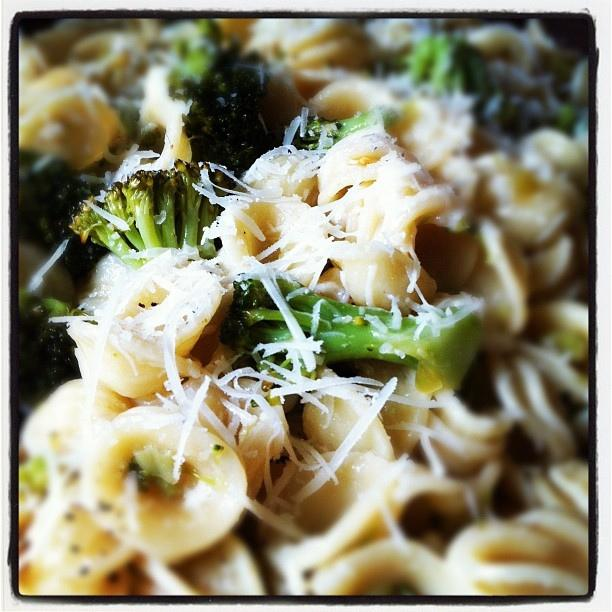broccoli: (164, 19, 284, 179), (68, 158, 236, 268), (317, 302, 482, 395), (386, 30, 509, 120), (18, 288, 98, 406), (294, 106, 394, 150), (46, 180, 94, 240), (557, 104, 579, 134)
